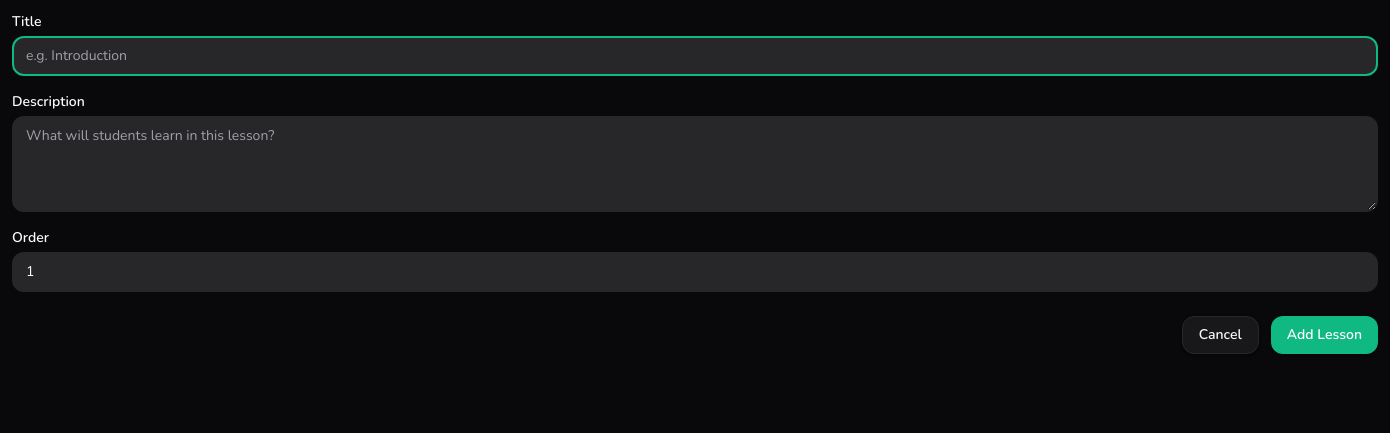
Test: LessonForm › shows validation error when submitted empty
Click the button "Add Lesson": (1324, 335) [1271, 316, 1378, 354]
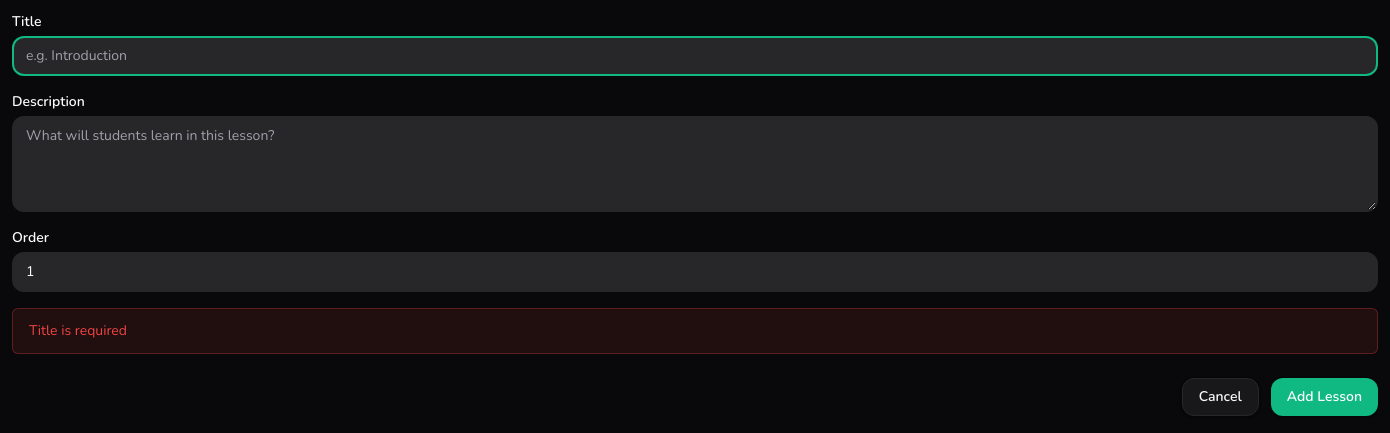
Now the text "Title is required" is shown, box [12, 308, 1378, 354]
